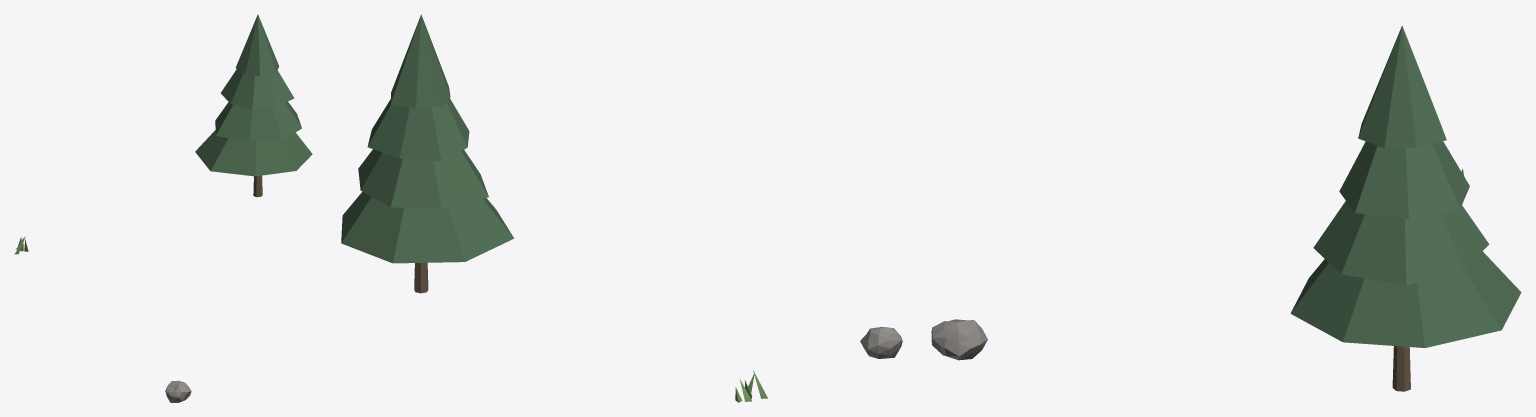
Rendered from arch_land_scatter_c22_19.glb.
3 views of the same model, side by side, from view 1: azimuth 30°, elevation 25°; view 2: azimuth 150°, elevation 25°; view 3: azimuth 270°, elevation 25° (orthographic). The views are drawn at different scales.
Visible parts, largest first — view 1: arch_land_scatter_c22_19; view 2: arch_land_scatter_c22_19; view 3: arch_land_scatter_c22_19.
Boxes of the visible parts, x1,y1,x2,y2 form: arch_land_scatter_c22_19: (14,14,312,402); arch_land_scatter_c22_19: (341,14,902,402); arch_land_scatter_c22_19: (931,25,1521,391).
Size of the model in its own units: 15.36 by 13.55 by 13.94.
